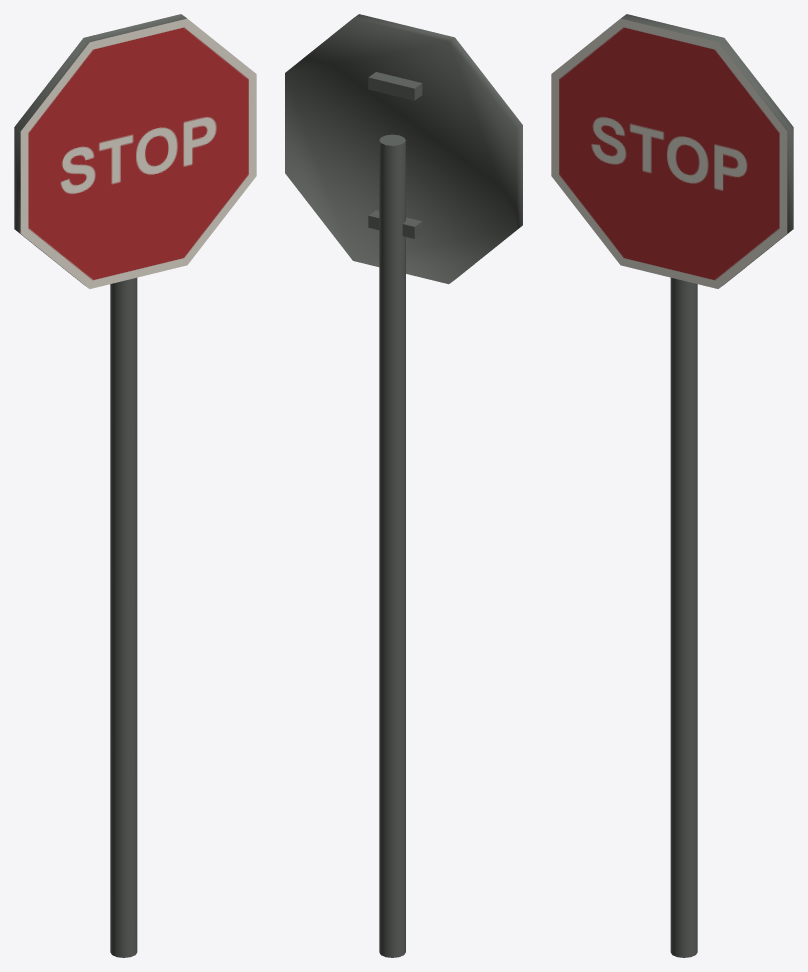
Rendered from MS_SG_01_Stop.glb.
3 views of the same model, side by side, from view 1: azimuth 30°, elevation 25°; view 2: azimuth 150°, elevation 25°; view 3: azimuth 330°, elevation 25° (orthographic).
Parts seen in each view (by area): view 1: SignFace, _MeshInstance3D_2, _MeshInstance3D_4; view 2: _MeshInstance3D_4, _MeshInstance3D_2, _MeshInstance3D_6, _MeshInstance3D_5; view 3: SignFace, _MeshInstance3D_2, _MeshInstance3D_4.
Boxes of the visible parts, bbox=[...] form: SignFace: bbox=[20, 18, 256, 288]; _MeshInstance3D_2: bbox=[110, 277, 137, 957]; _MeshInstance3D_4: bbox=[14, 14, 186, 287]; _MeshInstance3D_4: bbox=[285, 14, 522, 284]; _MeshInstance3D_2: bbox=[379, 134, 405, 957]; _MeshInstance3D_6: bbox=[368, 72, 422, 100]; _MeshInstance3D_5: bbox=[368, 210, 422, 238]; SignFace: bbox=[551, 18, 787, 288]; _MeshInstance3D_2: bbox=[670, 277, 697, 957]; _MeshInstance3D_4: bbox=[621, 14, 793, 287].
Bounding box in the file's own units: 0.7016 × 2.65 × 0.111.
2 materials, 1 textured.
